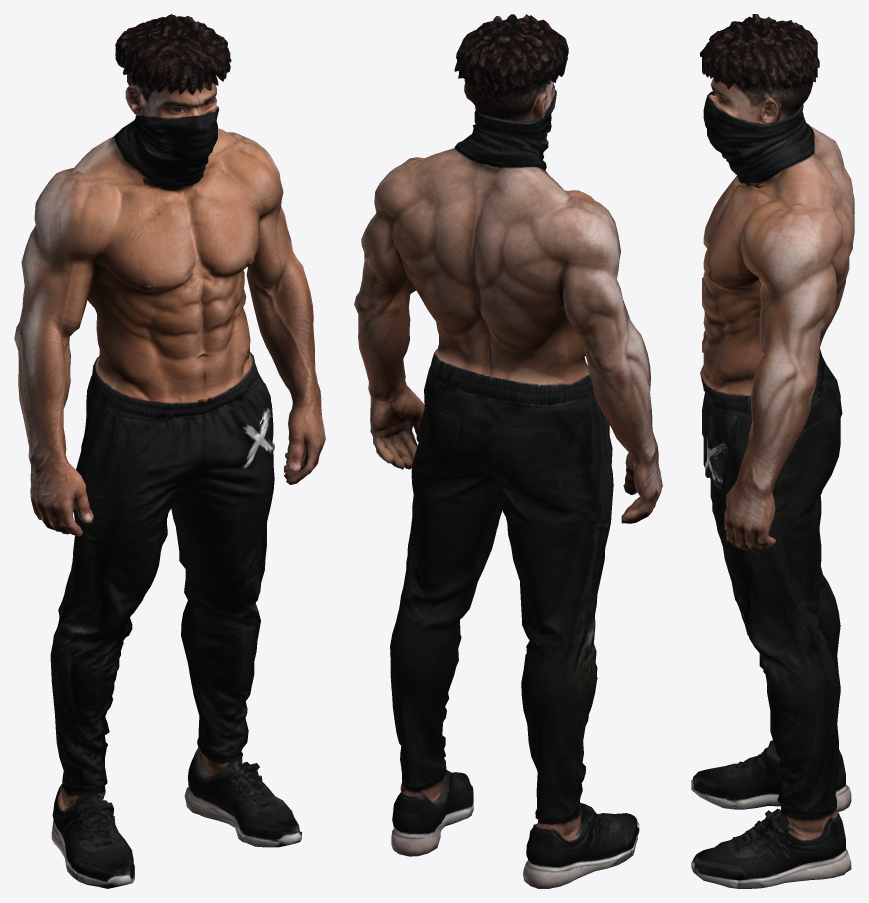
Rendered from STRIKAX6.glb.
The picture shows the model from 3 angles, left to right: view 1: azimuth 30°, elevation 25°; view 2: azimuth 150°, elevation 25°; view 3: azimuth 270°, elevation 25°; orthographic projection.
Visible parts, largest first — view 1: tripo_node_dd1a2aed-4f83-466d-b362-51447477e00a; view 2: tripo_node_dd1a2aed-4f83-466d-b362-51447477e00a; view 3: tripo_node_dd1a2aed-4f83-466d-b362-51447477e00a.
Part boxes in pixels (x1,y1,x2,y2): tripo_node_dd1a2aed-4f83-466d-b362-51447477e00a: (14, 14, 325, 888); tripo_node_dd1a2aed-4f83-466d-b362-51447477e00a: (354, 14, 662, 888); tripo_node_dd1a2aed-4f83-466d-b362-51447477e00a: (691, 14, 854, 888).
Size of the model in its own units: 0.3574 by 0.9766 by 0.1777.
1 material, 1 textured.
